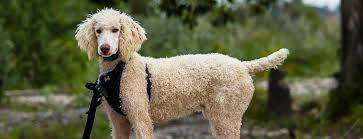Poodle: (64, 6, 290, 136)
